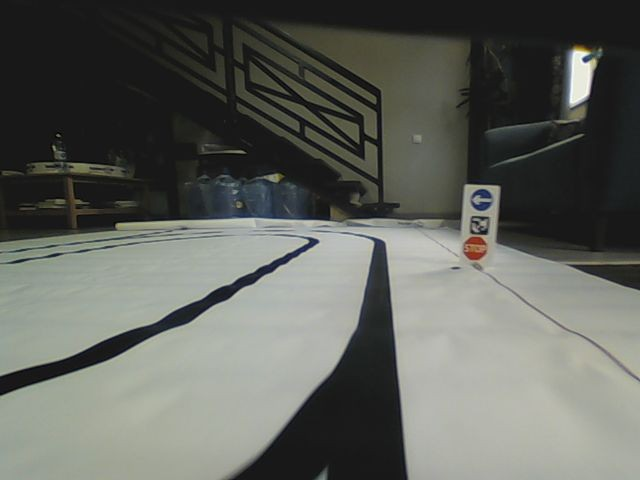Stop: (462, 235, 489, 261)
